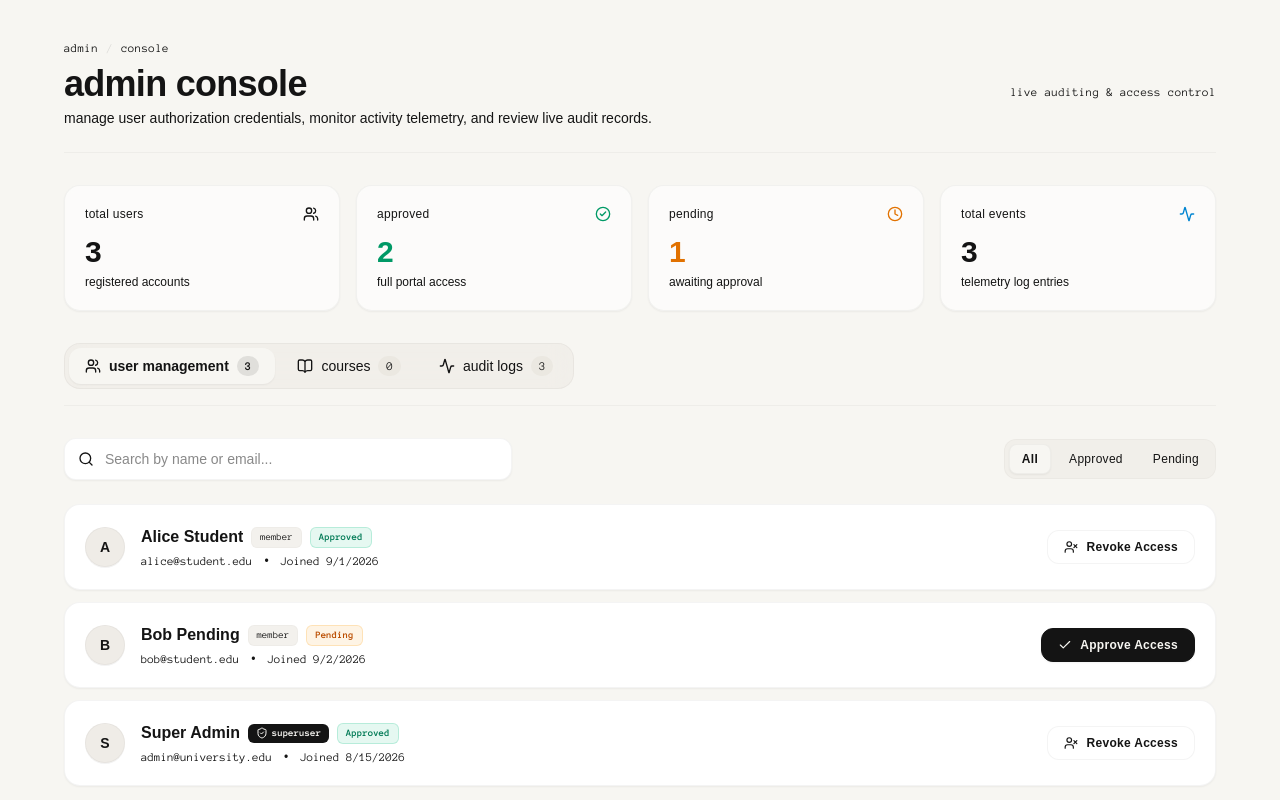
Test: Admin Console & Audit Log Stream (Task 2) › filters users in real time via search input and clear button
Check: the text "Alice Student" is shown, box [141,525,243,549]
Check: the text "Bob Pending" is shown, box [141,623,240,647]
Type "bob" into the field named "search users".
click(288, 459); type("bob")  # box [64,438,512,480]
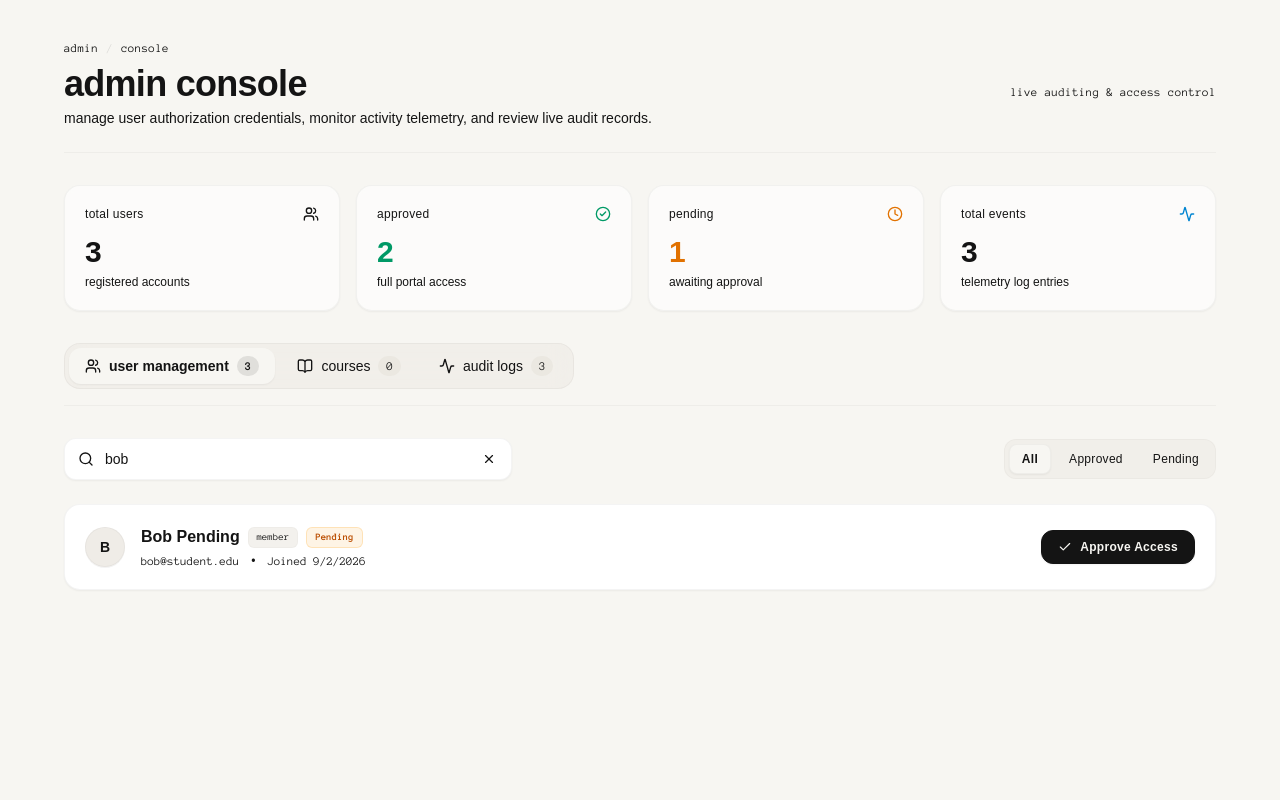
Check: the text "Bob Pending" is shown, box [141,525,240,549]
Check: the text "Alice Student" is gone
// Clear search
Click the button named "clear user search".
click(489, 459)  # box [478,448,500,470]
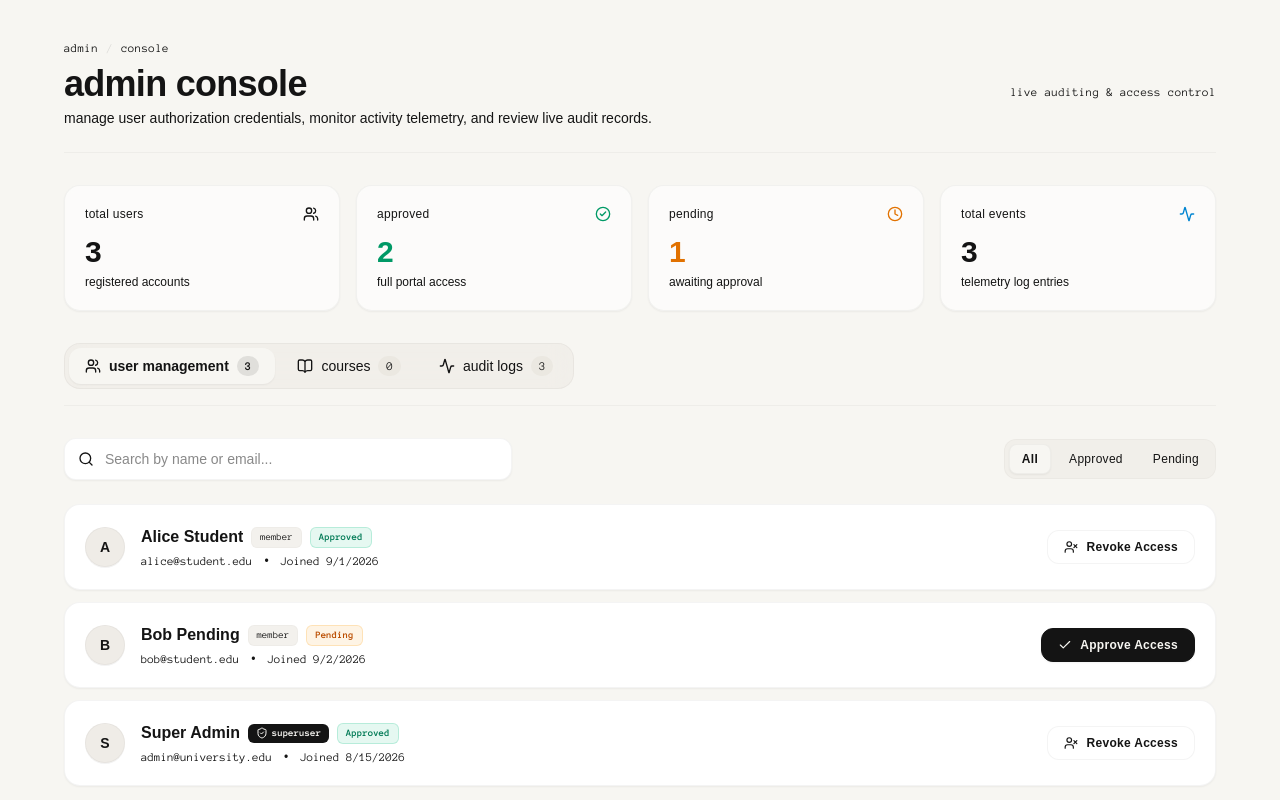
Check: the text "Bob Pending" is shown, box [141,623,240,647]
Check: the text "Alice Student" is shown, box [141,525,243,549]
